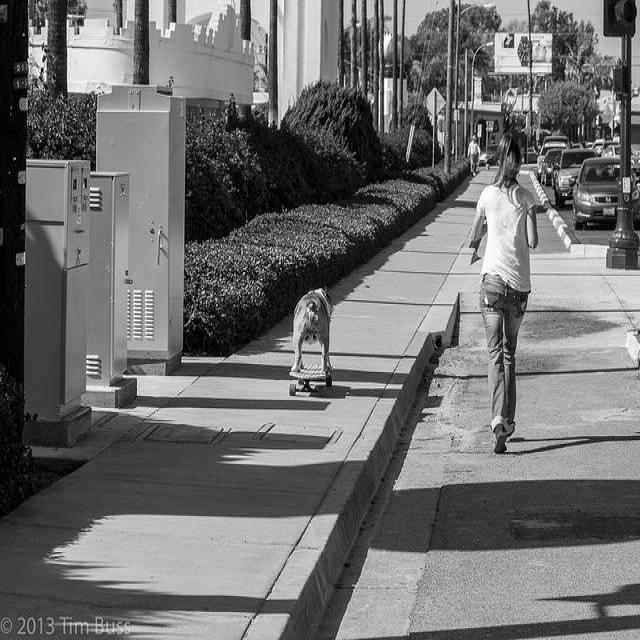vehicle: (569, 157, 640, 231), (553, 148, 599, 206), (601, 144, 640, 176), (537, 142, 569, 174), (539, 151, 563, 187), (551, 152, 563, 190), (593, 140, 618, 156), (520, 145, 540, 163), (482, 144, 500, 164), (479, 155, 490, 167), (570, 142, 585, 150)
